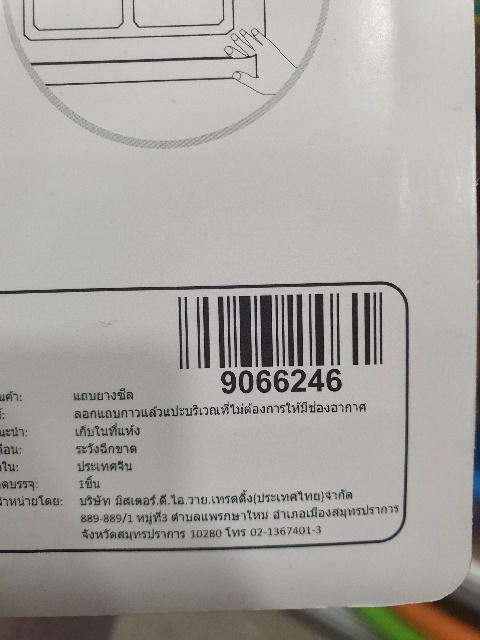Barcode: (168, 288, 398, 397)
